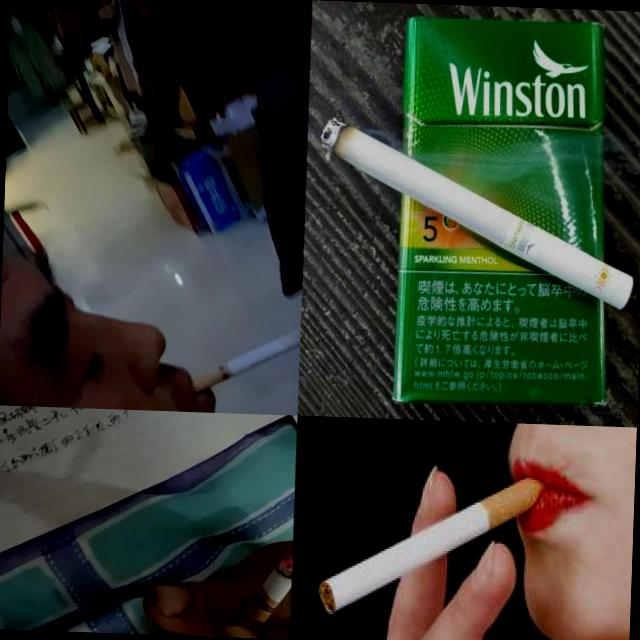smoke: (314, 116, 640, 310), (316, 466, 550, 624), (189, 314, 300, 398), (219, 543, 292, 639)
